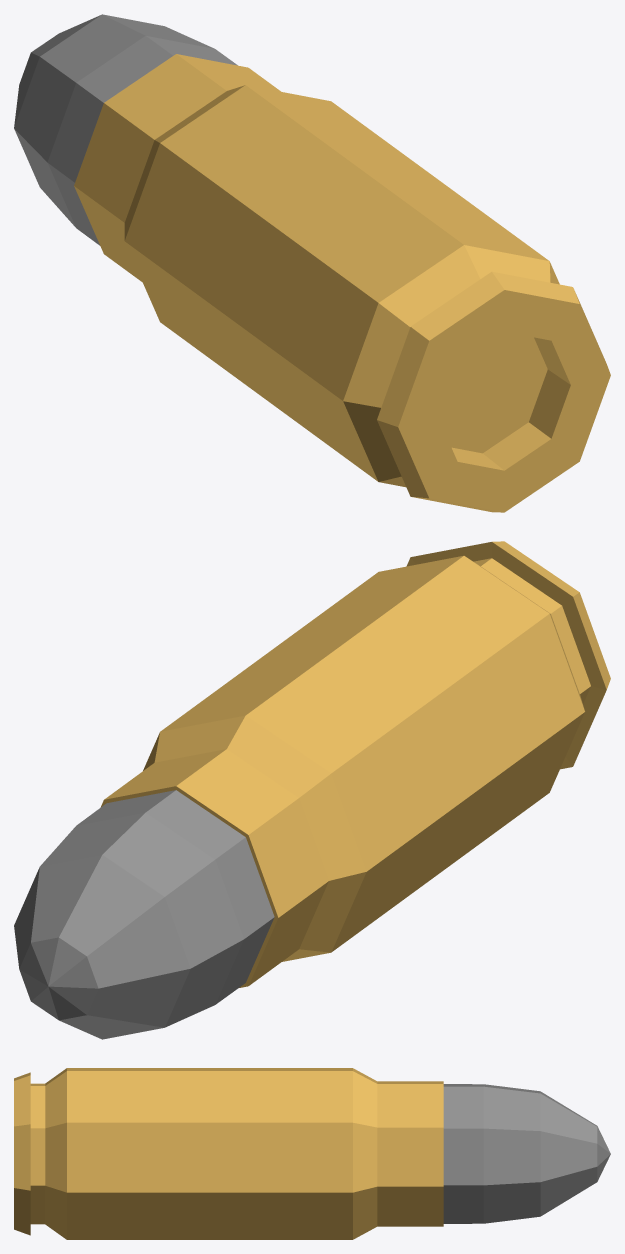
The model's file is round.glb.
3 renders of one model, top to bottom at view 1: azimuth 30°, elevation 25°; view 2: azimuth 150°, elevation 25°; view 3: azimuth 270°, elevation 25°, orthographic. The views are drawn at different scales.
Parts seen in each view (by area): view 1: 9x19-parabellum-round; view 2: 9x19-parabellum-round; view 3: 9x19-parabellum-round.
Part boxes in pixels (x1,y1,x2,y2): 9x19-parabellum-round: (14, 14, 610, 512); 9x19-parabellum-round: (14, 541, 610, 1039); 9x19-parabellum-round: (14, 1068, 610, 1239).
Bounding box in the file's own units: 0.00907 × 0.00907 × 0.0296.
